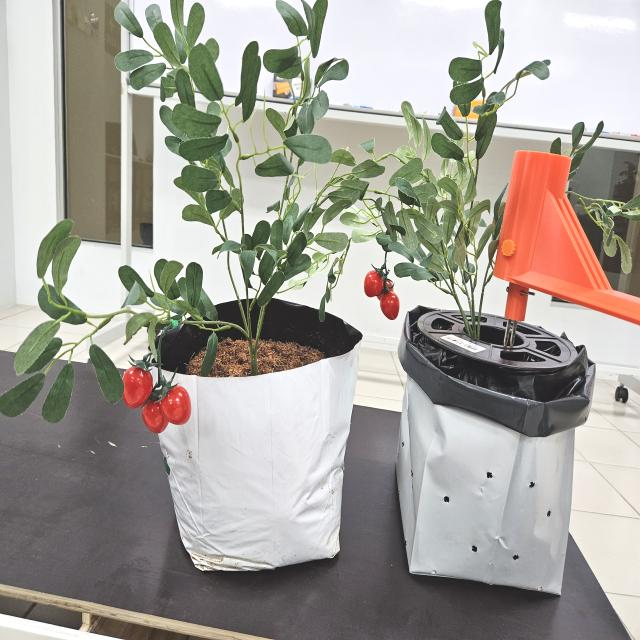EndEffector: (493, 151, 640, 347)
Soilbag: (396, 310, 592, 597), (157, 300, 363, 573)
Tomato: (123, 368, 191, 434), (362, 255, 402, 320)
plant: (0, 0, 380, 435), (364, 0, 550, 341)
